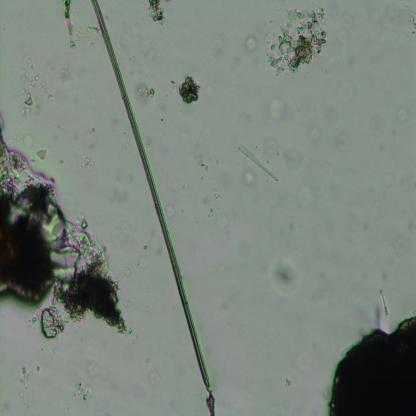Background material: (0, 118, 129, 348), (323, 313, 416, 415), (269, 6, 329, 77), (299, 249, 334, 305), (236, 145, 278, 188), (297, 167, 331, 212), (53, 54, 83, 105), (22, 63, 49, 112), (200, 154, 223, 210), (381, 4, 416, 38), (272, 258, 301, 299), (108, 169, 139, 207), (62, 1, 81, 54), (278, 138, 300, 174), (212, 24, 232, 61), (138, 29, 159, 63), (179, 75, 200, 106), (165, 175, 194, 197), (131, 82, 156, 103), (336, 13, 354, 42), (339, 77, 357, 106), (270, 96, 289, 122), (194, 138, 211, 167), (148, 0, 166, 27), (242, 31, 260, 54), (71, 382, 91, 402), (324, 103, 339, 126), (278, 370, 293, 390), (19, 127, 33, 148), (20, 366, 32, 390), (397, 104, 410, 125), (220, 294, 235, 312), (149, 369, 163, 385), (36, 146, 50, 162), (216, 218, 231, 230), (308, 131, 323, 142)
Microfibre: (92, 0, 216, 416)
